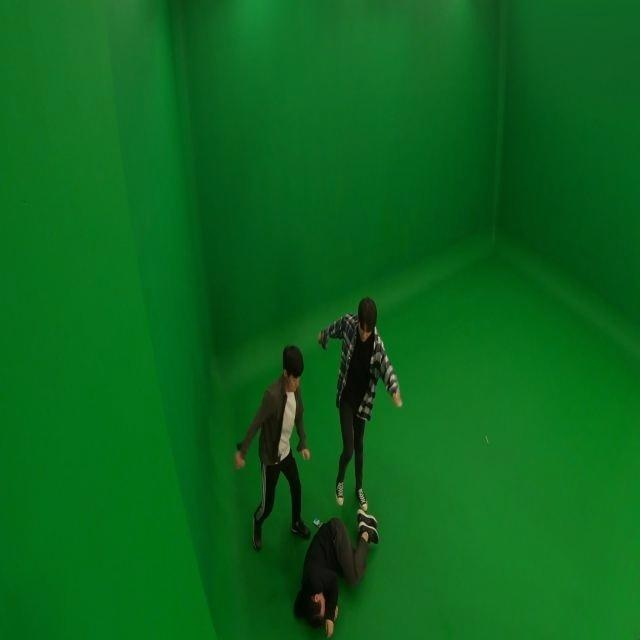fight: (314, 292, 406, 514), (232, 339, 312, 551), (289, 508, 382, 640)
